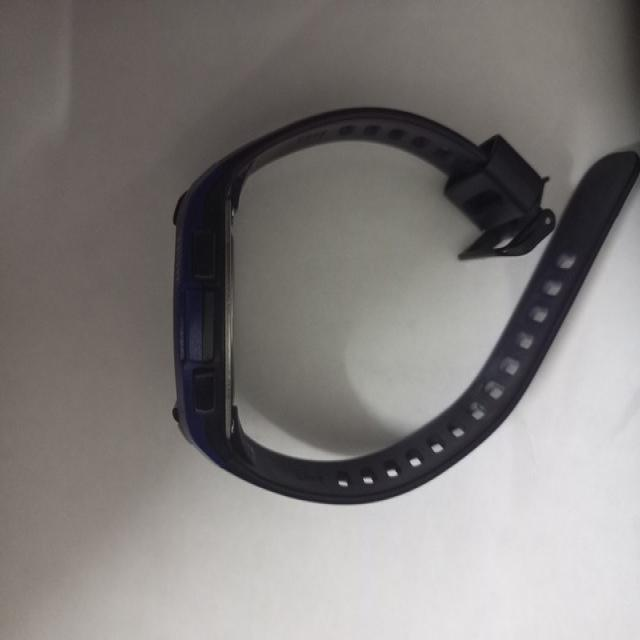watch: (173, 107, 638, 500)
